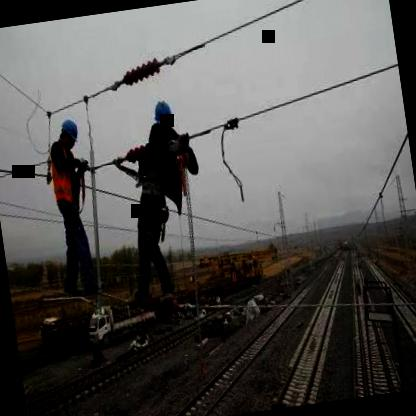helmet: (52, 111, 86, 158), (146, 94, 176, 142)
